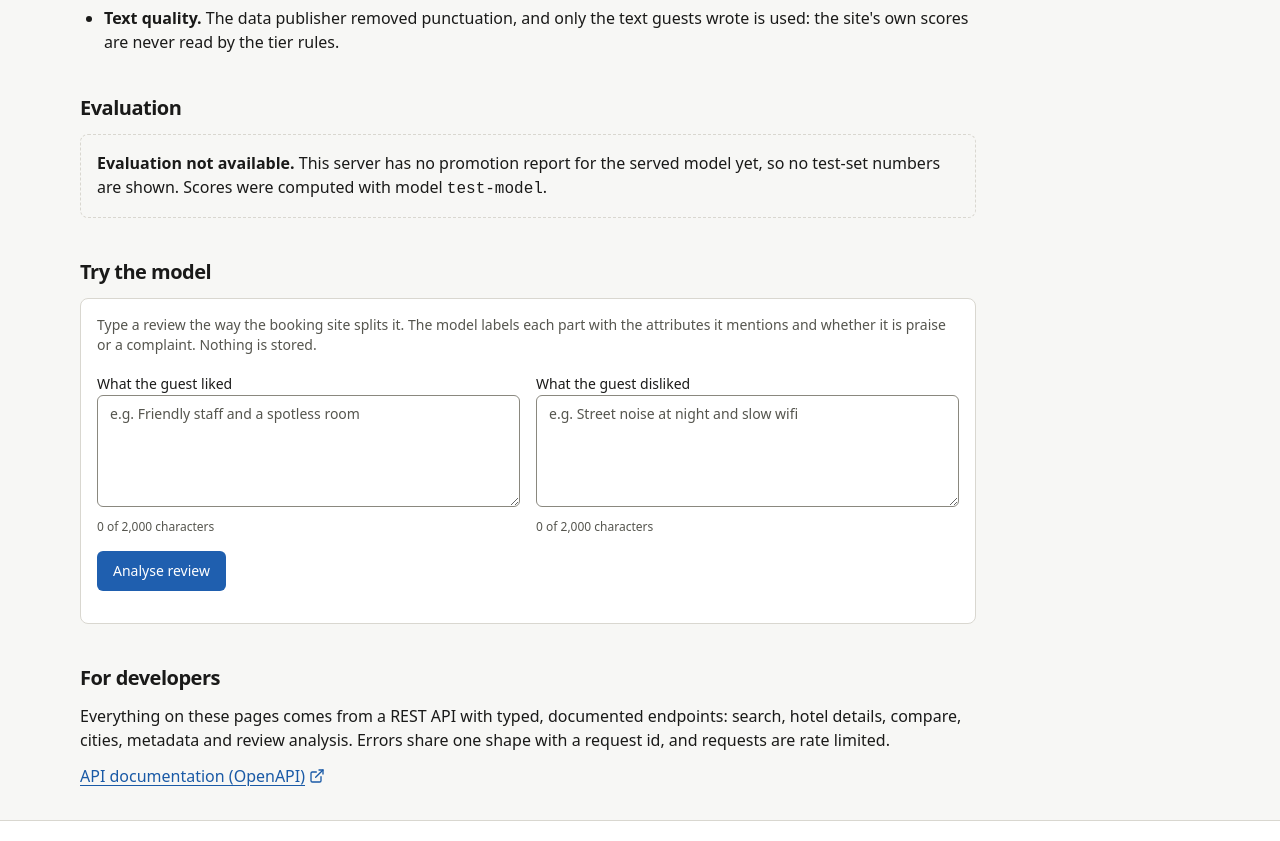
Test: Try the model › shows the validation message and fields on 422
(page scrolled)
In the text box labelled "What the guest liked": (308, 450) [97,394,520,506], type "Nice staff"
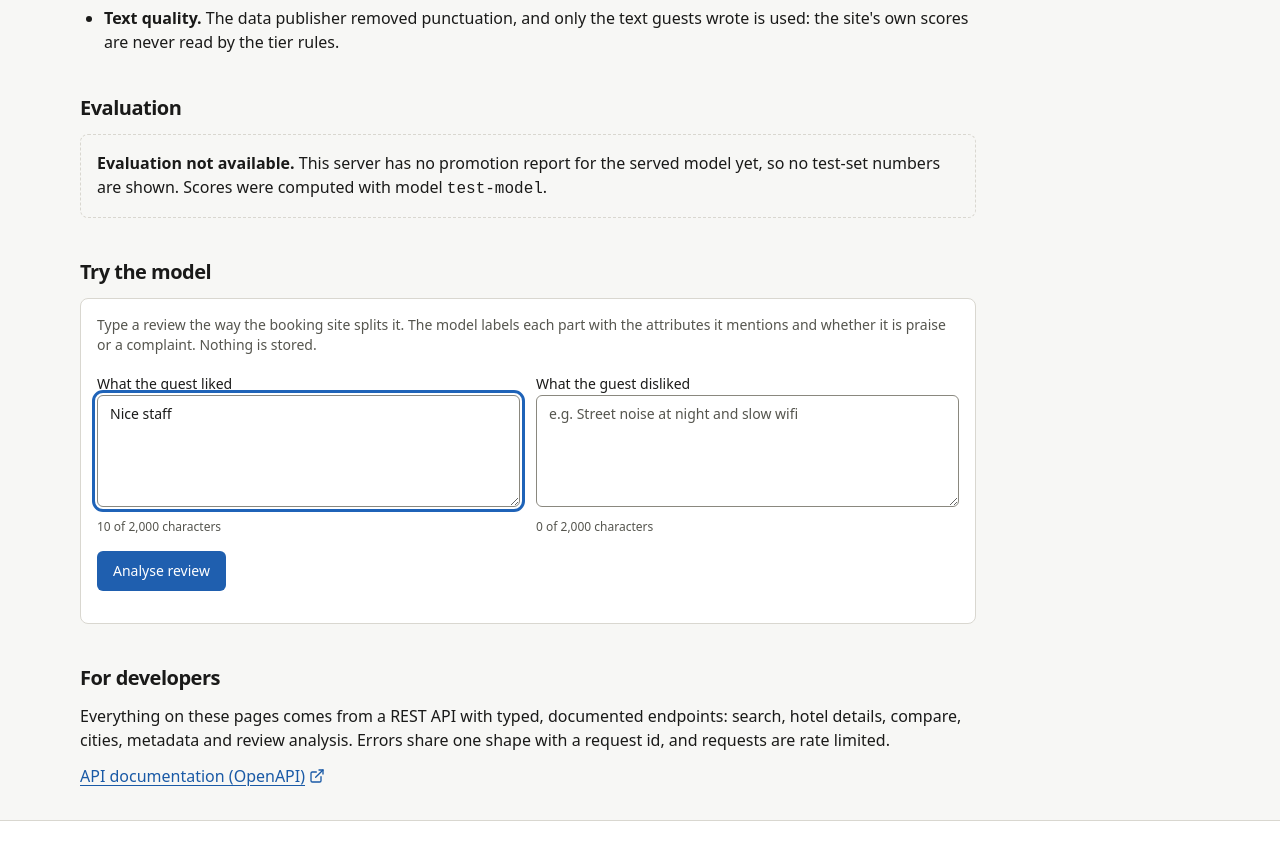
Click the button "Analyse review": (161, 570) [97,550,226,590]
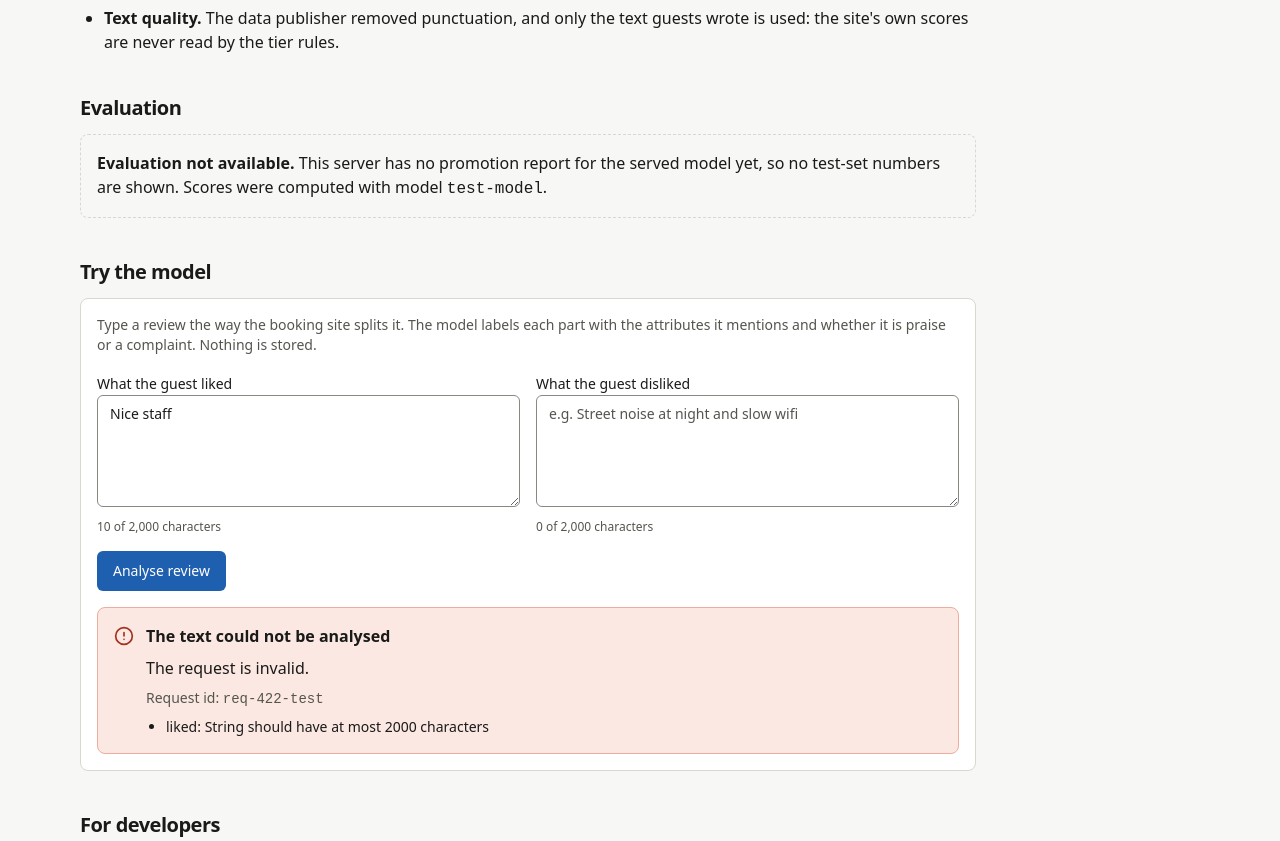
Check: the message shows "The text could not be analysed", box [146,624,390,646]
Check: the message shows "The request is invalid.", box [146,656,309,678]
Check: the message shows "liked: String should have at most 2000 characters", box [97,606,959,754]
